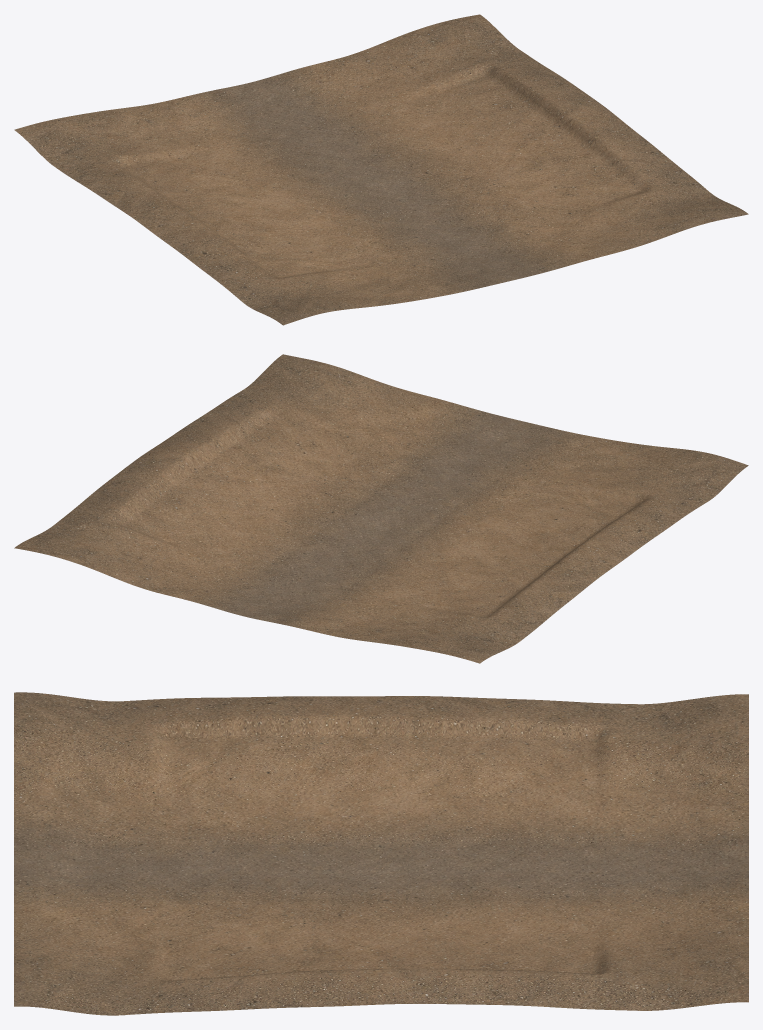
The model's file is moth-season-terrain.glb.
The picture shows the model from 3 angles, top to bottom: view 1: azimuth 30°, elevation 25°; view 2: azimuth 150°, elevation 25°; view 3: azimuth 270°, elevation 25°; orthographic projection. The views are drawn at different scales.
Parts seen in each view (by area): view 1: MothSeasonTerrain; view 2: MothSeasonTerrain; view 3: MothSeasonTerrain.
Part boxes in pixels (bbox=[...]): MothSeasonTerrain: bbox=[14, 14, 748, 325]; MothSeasonTerrain: bbox=[14, 354, 748, 663]; MothSeasonTerrain: bbox=[14, 692, 748, 1015].
Bounding box in the file's own units: 80 × 3.68 × 80.
1 material, 1 textured.
